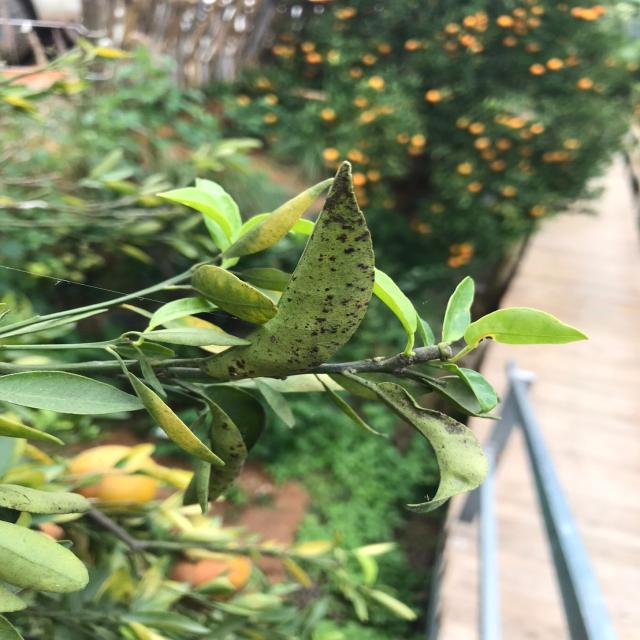melanose: (198, 162, 382, 384), (372, 382, 496, 506), (186, 396, 264, 511)
